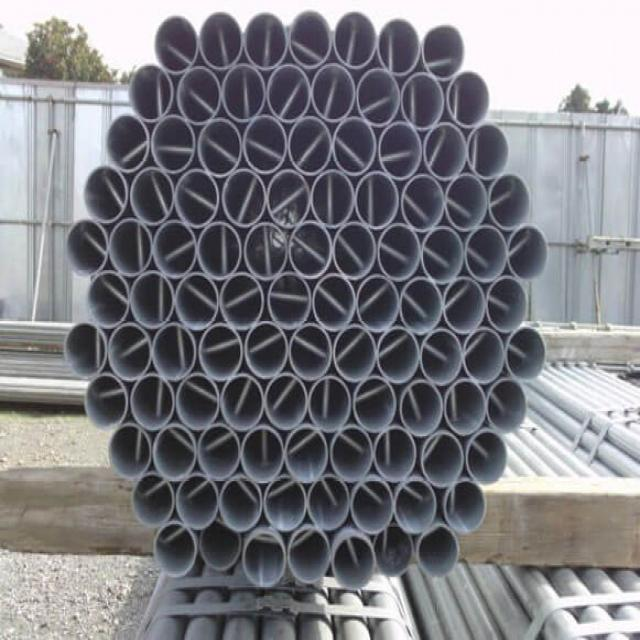pipe: (240, 522, 288, 596), (102, 107, 150, 178), (331, 523, 377, 597), (174, 60, 221, 131), (446, 64, 495, 132), (79, 159, 127, 228), (124, 60, 174, 126), (419, 19, 469, 84), (150, 518, 199, 584), (150, 109, 196, 179), (221, 58, 267, 127), (196, 114, 242, 183), (81, 369, 128, 436), (400, 66, 445, 135), (63, 213, 108, 282), (265, 60, 311, 127), (467, 424, 513, 491), (128, 467, 174, 534), (417, 520, 463, 587), (151, 10, 199, 74), (354, 64, 400, 130), (243, 110, 287, 179), (174, 164, 220, 230), (83, 266, 129, 332), (107, 317, 151, 386), (311, 58, 356, 125), (332, 113, 377, 180), (197, 319, 243, 384), (221, 164, 266, 230), (243, 219, 288, 285), (220, 268, 265, 334), (394, 472, 439, 538), (442, 475, 489, 538), (288, 113, 332, 180), (399, 272, 443, 339), (107, 418, 151, 485), (377, 118, 422, 183), (129, 266, 174, 331), (266, 268, 311, 333), (130, 370, 175, 435), (284, 420, 329, 485), (109, 214, 152, 282), (129, 161, 173, 227), (288, 217, 332, 283), (376, 219, 420, 285), (311, 268, 355, 334), (152, 318, 196, 384), (485, 372, 529, 438), (287, 522, 331, 588), (153, 214, 196, 281), (153, 420, 196, 487), (488, 169, 533, 233), (197, 217, 242, 281), (176, 368, 221, 432), (218, 471, 263, 535), (266, 166, 310, 231), (356, 167, 400, 232), (175, 269, 219, 334), (62, 316, 106, 381), (332, 321, 376, 386), (420, 426, 464, 491), (443, 373, 486, 439), (175, 468, 218, 534), (350, 471, 393, 537), (467, 118, 511, 182), (310, 166, 354, 230), (400, 171, 444, 235), (244, 317, 288, 381), (333, 218, 376, 283), (507, 220, 550, 285), (376, 322, 419, 387), (221, 369, 264, 434), (353, 371, 396, 436), (399, 376, 442, 441), (357, 268, 399, 334), (443, 272, 485, 338), (486, 271, 528, 337), (288, 319, 331, 383), (265, 370, 308, 434), (330, 421, 373, 485), (376, 14, 421, 75), (420, 325, 462, 390), (333, 10, 377, 72), (423, 120, 466, 183), (445, 171, 488, 234), (240, 422, 283, 485), (465, 220, 506, 286), (288, 9, 333, 69), (421, 223, 463, 287), (505, 322, 547, 386), (198, 420, 240, 484), (375, 421, 417, 485), (309, 372, 351, 435), (264, 472, 306, 535), (374, 522, 416, 585), (463, 323, 504, 387), (307, 471, 350, 532), (243, 11, 287, 70), (199, 11, 242, 70), (200, 518, 243, 577)
